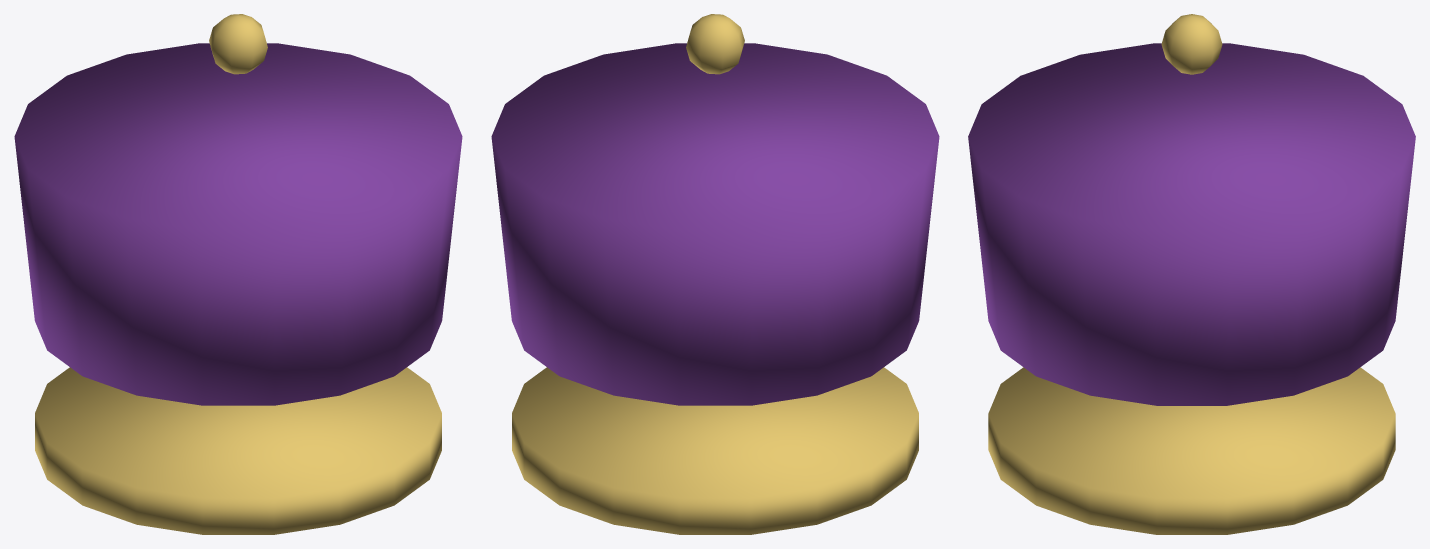
The model's file is stool_cushion.glb.
3 renders of one model, left to right at view 1: azimuth 30°, elevation 25°; view 2: azimuth 150°, elevation 25°; view 3: azimuth 270°, elevation 25°, orthographic.
Parts seen in each view (by area): view 1: GD_stool_cushion__m0, GD_stool_cushion__m1; view 2: GD_stool_cushion__m0, GD_stool_cushion__m1; view 3: GD_stool_cushion__m0, GD_stool_cushion__m1.
Part boxes in pixels (x1=…): GD_stool_cushion__m0: x1=14, y1=43, x2=462, y2=405; GD_stool_cushion__m1: x1=35, y1=14, x2=441, y2=534; GD_stool_cushion__m0: x1=491, y1=43, x2=939, y2=405; GD_stool_cushion__m1: x1=512, y1=14, x2=918, y2=534; GD_stool_cushion__m0: x1=968, y1=43, x2=1415, y2=405; GD_stool_cushion__m1: x1=988, y1=14, x2=1395, y2=534.
Bounding box in the file's own units: 0.4333 × 0.47 × 0.44.
